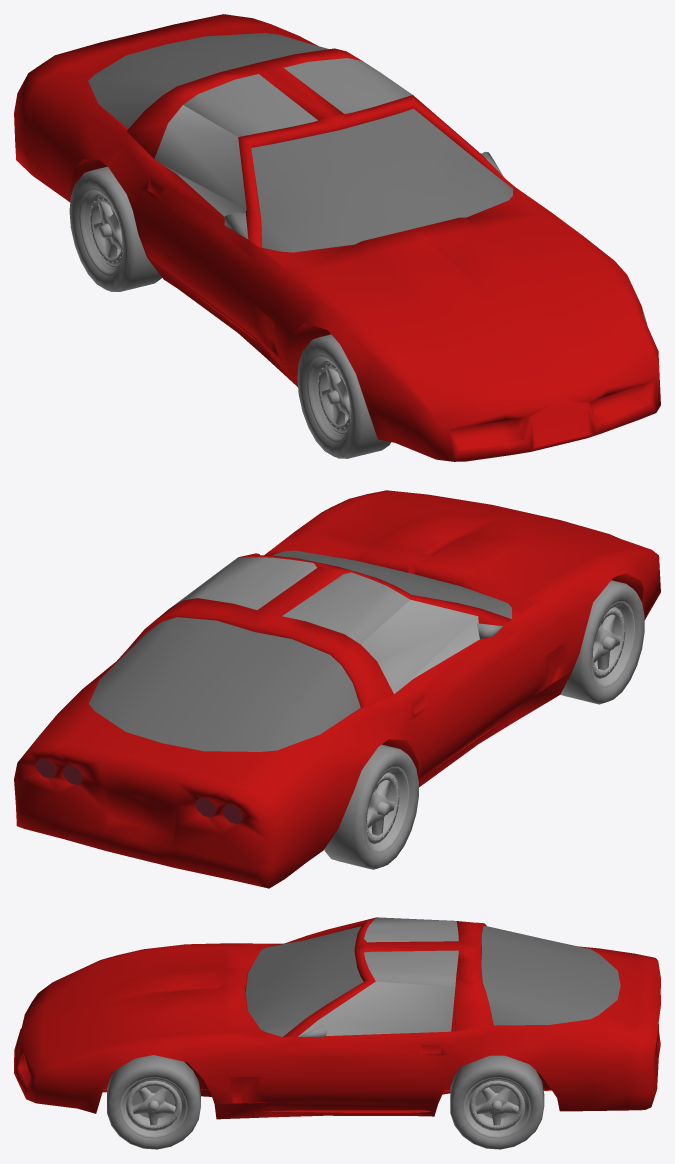
The model's file is Car.fbx.
3 views of the same model, one above another, from view 1: azimuth 30°, elevation 25°; view 2: azimuth 150°, elevation 25°; view 3: azimuth 270°, elevation 25° (orthographic). The views are drawn at different scales.
Parts seen in each view (by area): view 1: Car, Tires; view 2: Car, Tires; view 3: Car, Tires.
Boxes of the visible parts, x1,y1,x2,y2 form: Car: (14,14,660,461); Tires: (69,166,647,458); Car: (14,490,660,888); Tires: (324,580,644,869); Car: (14,917,660,1119); Tires: (107,1055,544,1149).
Bounding box in the file's own units: 1.76 × 1.15 × 4.42.
